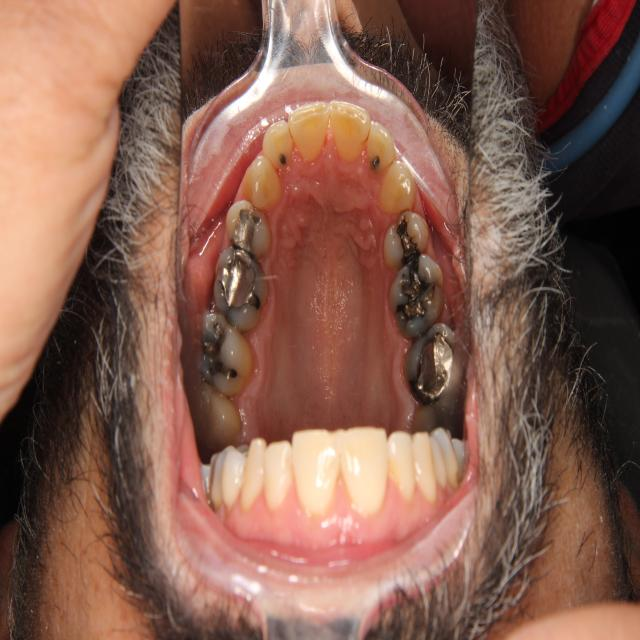tooth: (392, 317, 477, 434), (205, 243, 274, 337), (381, 249, 447, 343), (192, 309, 258, 402), (183, 368, 244, 462), (375, 197, 435, 274), (217, 192, 277, 260), (326, 93, 372, 173), (283, 98, 331, 167), (373, 150, 419, 218), (247, 152, 283, 217), (366, 105, 397, 180), (261, 116, 296, 176)
